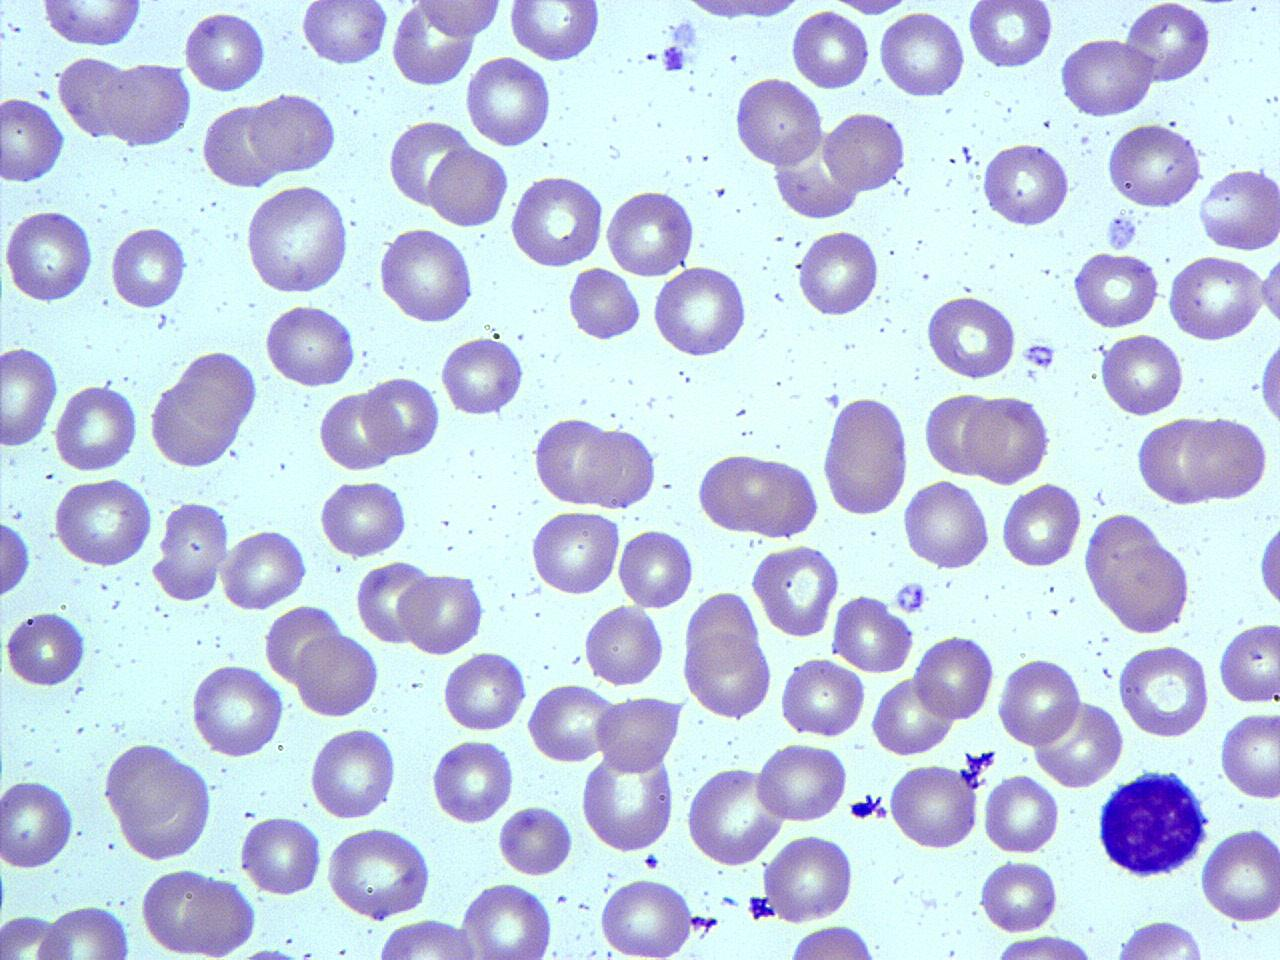Platelets: (1104, 211, 1140, 254), (1019, 336, 1057, 372), (892, 580, 930, 615), (846, 791, 885, 822), (241, 942, 299, 960), (746, 893, 778, 922), (660, 45, 684, 71), (716, 894, 742, 910)
RBC: (144, 346, 259, 473), (1080, 511, 1194, 639), (106, 742, 216, 866), (244, 181, 350, 296), (137, 864, 259, 960), (820, 392, 912, 518), (579, 742, 676, 854), (322, 825, 434, 921), (685, 764, 786, 866), (377, 225, 477, 325), (650, 262, 752, 360), (53, 474, 154, 570), (0, 206, 95, 308), (188, 662, 286, 760), (507, 171, 604, 270), (1116, 641, 1212, 740), (1165, 252, 1269, 342), (751, 541, 842, 642), (732, 73, 826, 169), (306, 724, 398, 822), (760, 831, 856, 924), (462, 52, 554, 149), (1104, 120, 1202, 211), (900, 476, 992, 572), (527, 508, 622, 600), (923, 292, 1019, 383), (262, 299, 358, 390), (602, 186, 696, 278), (979, 138, 1073, 230), (887, 760, 979, 853), (1032, 697, 1126, 788), (101, 58, 193, 150), (878, 7, 968, 101), (752, 740, 850, 826), (1198, 824, 1280, 926), (598, 874, 696, 959), (1057, 35, 1157, 118), (682, 631, 773, 722), (994, 654, 1082, 748), (965, 392, 1050, 488), (796, 224, 880, 321), (530, 414, 617, 506), (52, 381, 139, 473), (292, 631, 380, 721), (398, 568, 486, 658), (1100, 328, 1186, 420), (152, 500, 228, 604), (438, 331, 526, 420), (248, 89, 338, 176), (1184, 413, 1270, 504), (316, 476, 409, 560), (1135, 413, 1217, 508), (461, 880, 558, 960), (440, 647, 528, 735), (391, 1, 478, 90), (430, 736, 516, 826), (182, 7, 268, 97), (218, 526, 307, 612), (1000, 479, 1083, 571), (238, 812, 324, 900), (593, 691, 683, 775), (1195, 164, 1279, 254), (912, 631, 994, 723), (822, 107, 908, 194), (385, 117, 468, 207), (526, 681, 616, 764), (920, 386, 1002, 477), (0, 774, 76, 872), (1069, 250, 1161, 330), (788, 7, 872, 93), (582, 604, 666, 690), (1124, 2, 1212, 84), (694, 448, 777, 534), (199, 101, 281, 188), (1, 609, 88, 691), (830, 592, 914, 676), (778, 656, 864, 738), (56, 52, 133, 143), (428, 145, 510, 230), (740, 454, 822, 538), (354, 558, 432, 646), (580, 424, 658, 512), (110, 224, 188, 312), (617, 524, 695, 612), (869, 674, 952, 756), (316, 387, 396, 472), (977, 856, 1061, 936), (362, 375, 440, 460), (982, 772, 1060, 856), (0, 94, 68, 188), (299, 0, 390, 70), (0, 344, 60, 450), (565, 263, 643, 344), (964, 0, 1053, 70), (505, 1, 601, 63), (1218, 707, 1280, 802), (495, 802, 572, 878), (32, 902, 134, 958), (1216, 617, 1278, 707), (39, 1, 144, 50), (372, 915, 483, 958), (1108, 917, 1210, 959), (412, 0, 506, 40), (783, 924, 884, 960), (0, 908, 69, 959), (986, 932, 1106, 960), (0, 507, 33, 604), (1253, 512, 1279, 618), (1257, 330, 1280, 432)
WBC: (149, 348, 264, 474), (104, 737, 216, 865), (1084, 508, 1194, 636), (1094, 766, 1212, 882), (136, 865, 259, 958), (1257, 327, 1280, 436)
